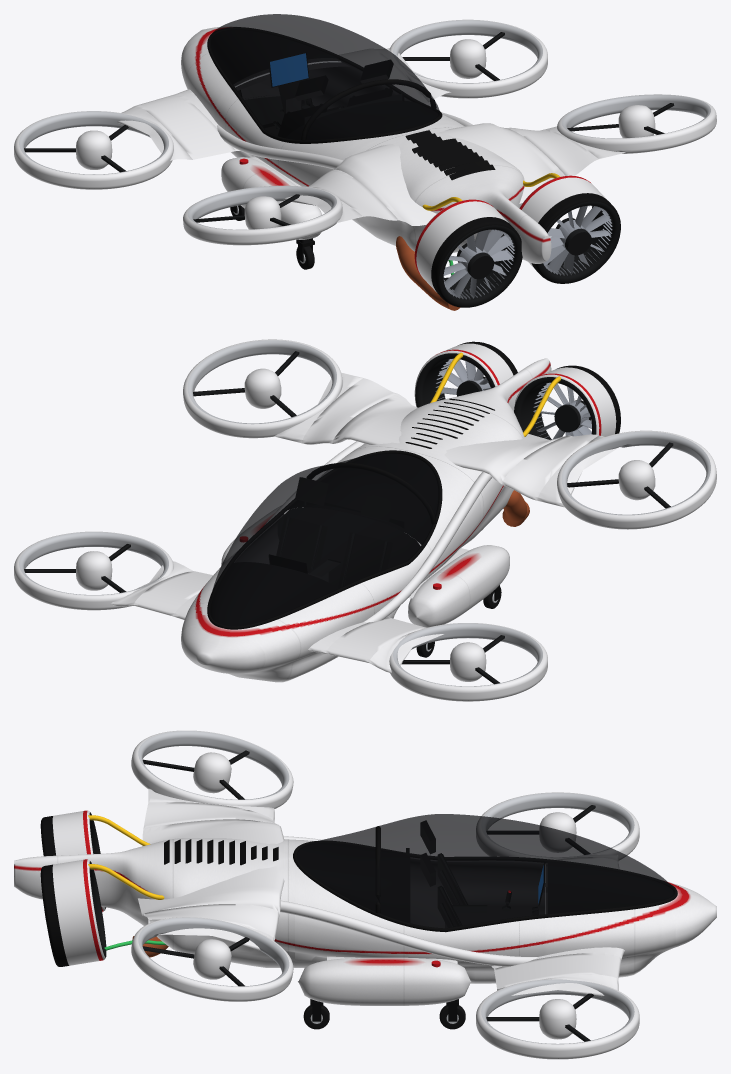
Rendered from x1_body.glb.
3 views of the same model, one above another, from view 1: azimuth 30°, elevation 25°; view 2: azimuth 150°, elevation 25°; view 3: azimuth 270°, elevation 25° (orthographic). The views are drawn at different scales.
Visible parts, largest first — view 1: x1_body; view 2: x1_body; view 3: x1_body.
Part boxes in pixels (box(x1,y1,x2,y2)): x1_body: box(14, 14, 716, 310); x1_body: box(14, 339, 716, 701); x1_body: box(14, 730, 716, 1059).
Size of the model in its own units: 4.72 by 1.34 by 5.48.
Materials: 15 (1 with a texture image).
